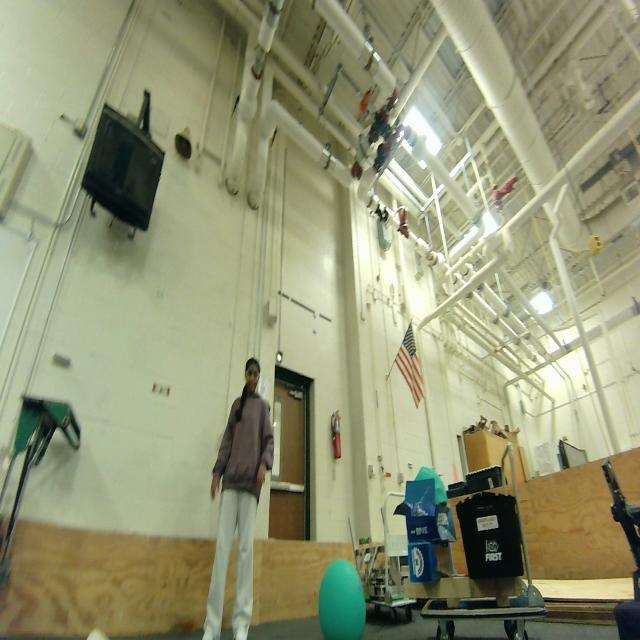algae: (318, 558, 366, 640)
